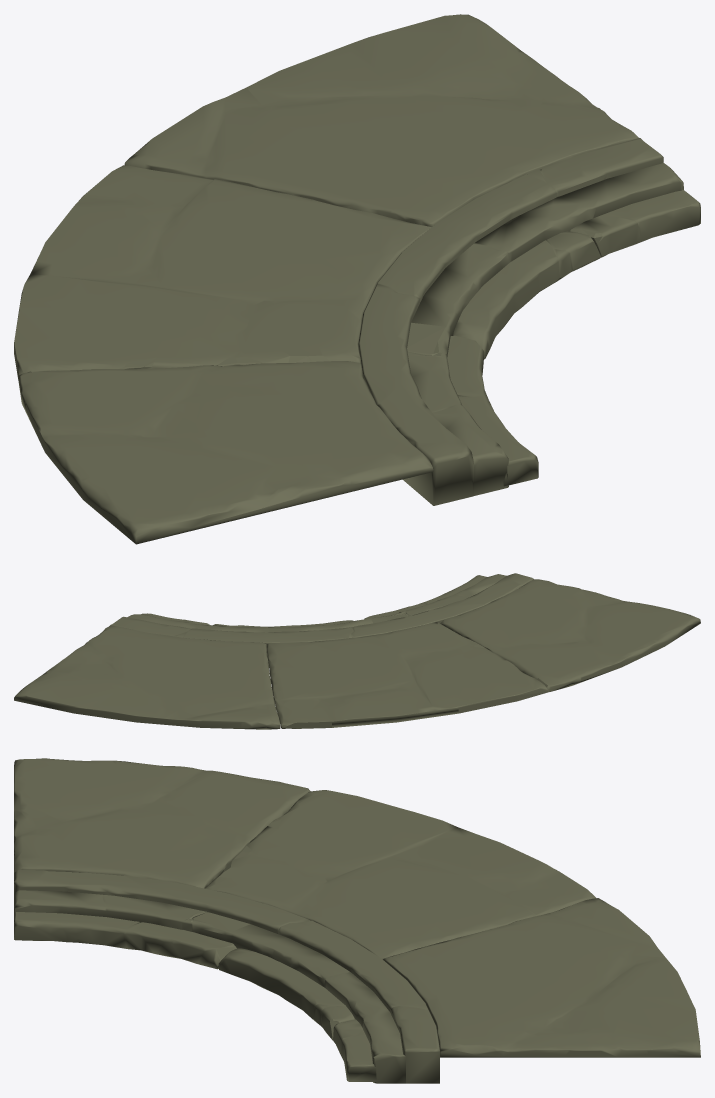
File: SM_TempleStairs01.fbx
3 renders of one model, top to bottom at view 1: azimuth 30°, elevation 25°; view 2: azimuth 150°, elevation 25°; view 3: azimuth 270°, elevation 25°, orthographic. The views are drawn at different scales.
Parts seen in each view (by area): view 1: SM_TempleStairs01; view 2: SM_TempleStairs01; view 3: SM_TempleStairs01.
Part boxes in pixels (x1,y1,x2,y2): SM_TempleStairs01: (14, 14, 700, 544); SM_TempleStairs01: (14, 573, 700, 729); SM_TempleStairs01: (14, 758, 700, 1083).
Bounding box in the file's own units: 3169 × 189 × 3158.
